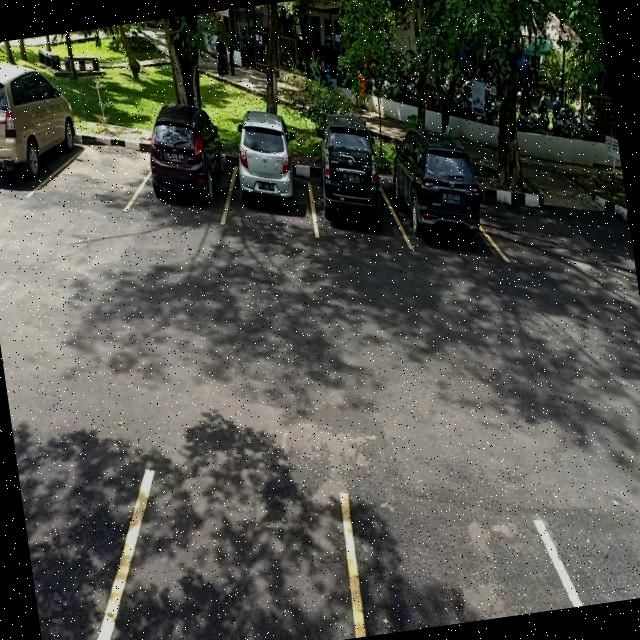empty: (54, 130, 154, 222)
occupied: (0, 73, 81, 207), (140, 125, 237, 236), (306, 142, 402, 252), (390, 154, 491, 258), (226, 137, 316, 227)
